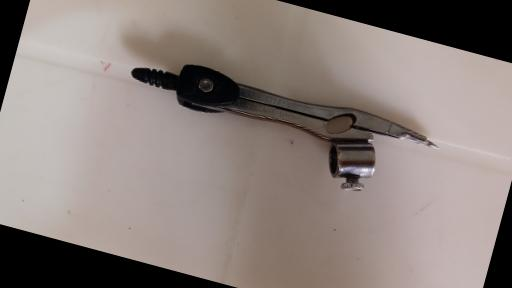Compass: (114, 49, 442, 213)
